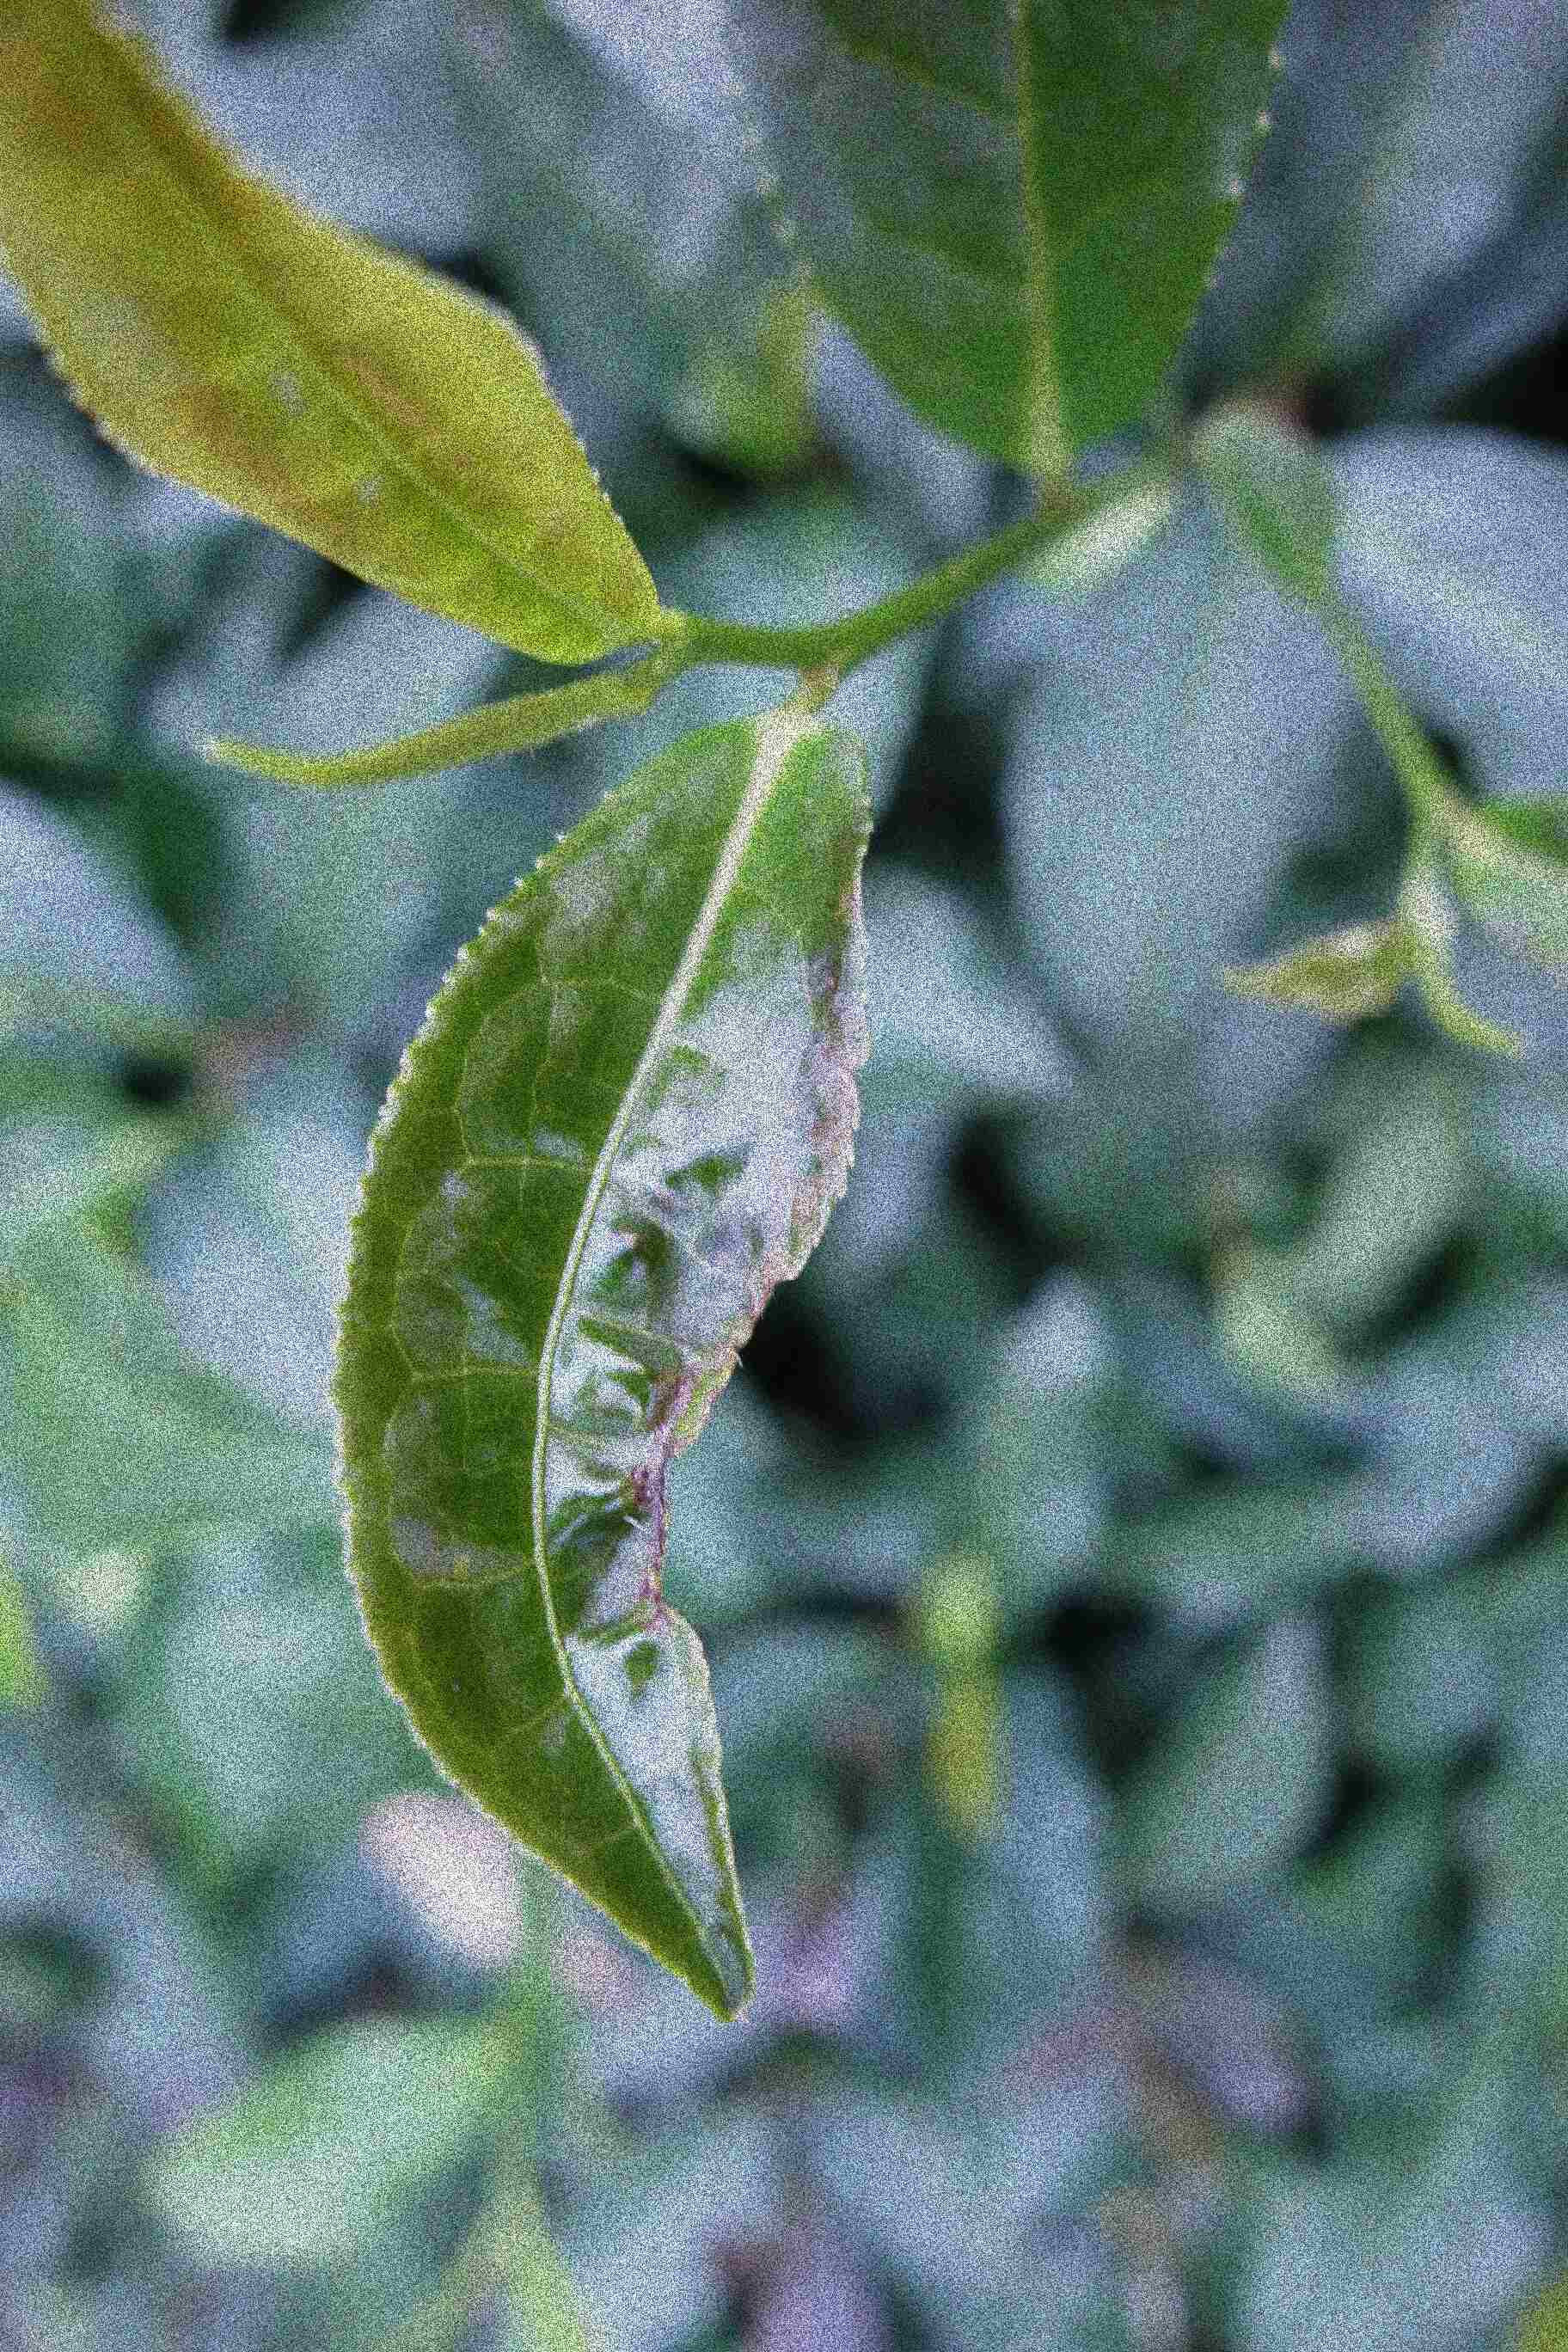chihuo_high: (327, 705, 875, 2023)
tanju_low: (0, 0, 674, 665)
